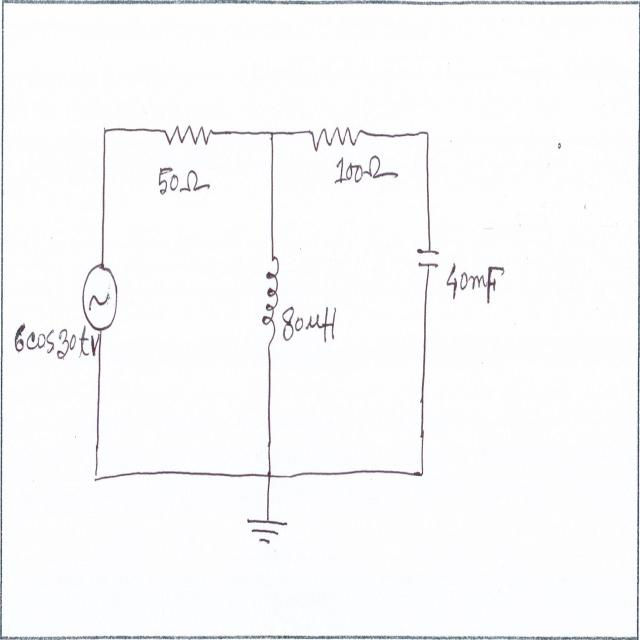ac_current: (80, 260, 124, 334)
capacitor: (413, 239, 444, 275)
ground: (245, 510, 293, 552)
inductor: (260, 250, 281, 354)
resistor: (160, 114, 213, 153), (309, 117, 362, 156)
